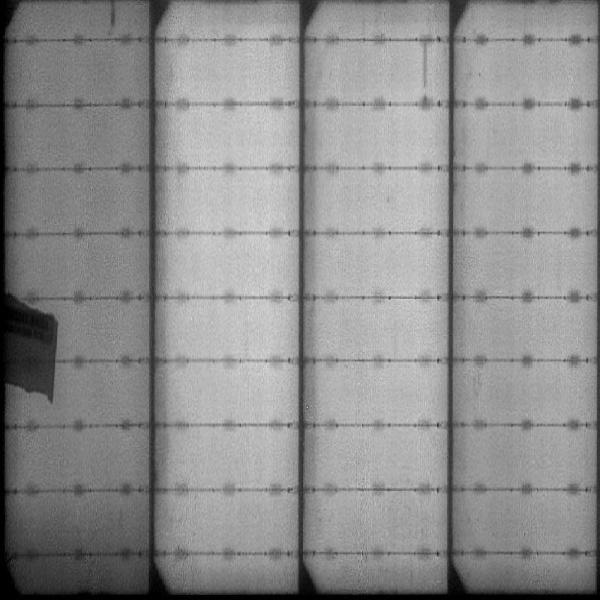broken: (1, 289, 58, 404)
scratch: (419, 38, 431, 106), (107, 1, 118, 32)
